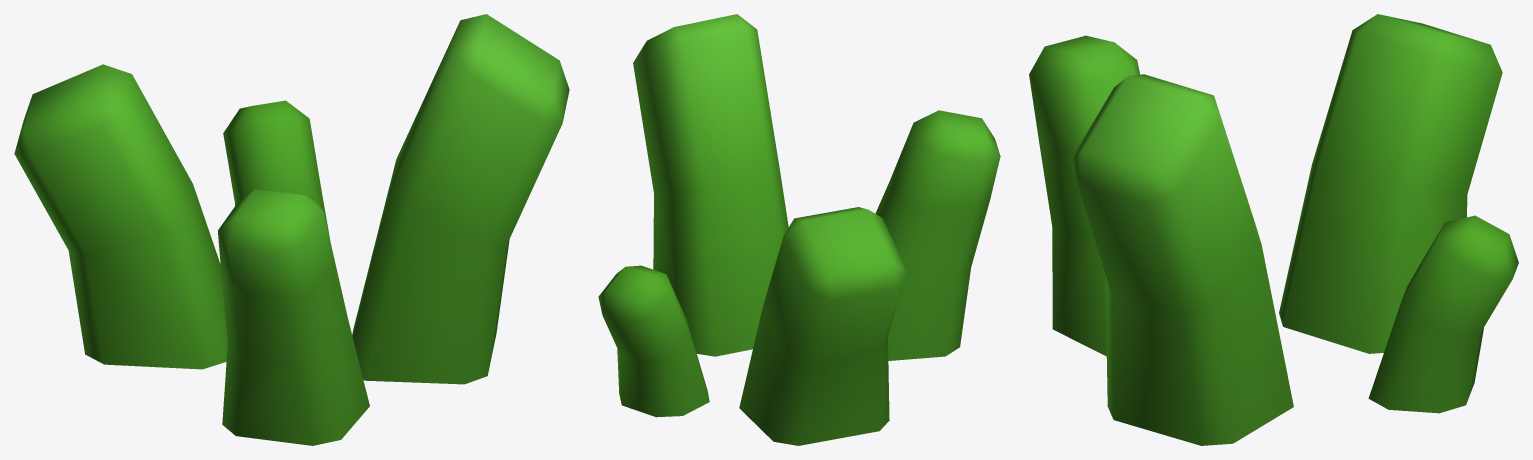
The model's file is Grass_3_2.obj.
3 renders of one model, left to right at view 1: azimuth 30°, elevation 25°; view 2: azimuth 150°, elevation 25°; view 3: azimuth 270°, elevation 25°, orthographic. The views are drawn at different scales.
Parts seen in each view (by area): view 1: Grass_3_2; view 2: Grass_3_2; view 3: Grass_3_2.
Part boxes in pixels (<box>): Grass_3_2: <box>14,14,569,445</box>; Grass_3_2: <box>598,14,1000,445</box>; Grass_3_2: <box>1029,14,1518,445</box>.
Bounding box in the file's own units: 0.2396 × 0.1757 × 0.2272.
